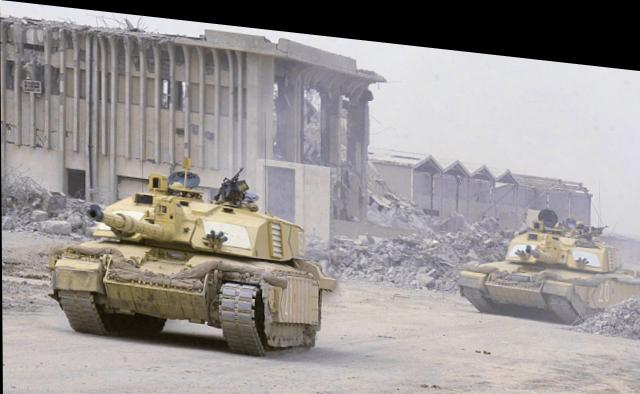tank: (62, 165, 313, 362), (458, 184, 636, 321)
